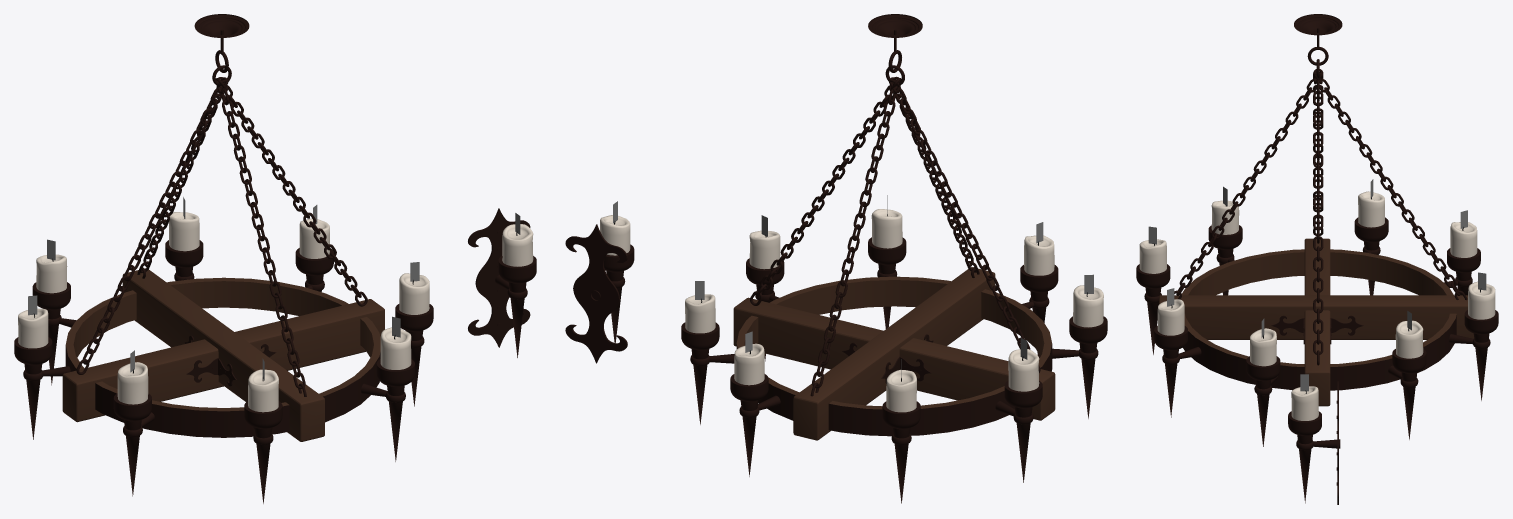
Rendered from Chandelier.FBX.
3 views of the same model, side by side, from view 1: azimuth 30°, elevation 25°; view 2: azimuth 150°, elevation 25°; view 3: azimuth 270°, elevation 25° (orthographic). The views are drawn at different scales.
Parts seen in each view (by area): view 1: Line1789528085, Object006, Object007, Group2098637409, Line1789528086, Cylinder007, Cylinder019, Cylinder012, Cylinder014, Cylinder015, Cylinder010, Cylinder016 (+2 smaller); view 2: Line1789528085, Object006, Object007, Group2098637409, Cylinder013, Cylinder016, Cylinder014, Cylinder012, Cylinder010, Cylinder007, Cylinder011, Cylinder015 (+2 smaller); view 3: Line1789528085, Object007, Object006, Line1789528086, Cylinder011, Cylinder015, Cylinder010, Cylinder013, Cylinder014, Cylinder016, Cylinder019, Cylinder007 (+1 smaller).
Part boxes in pixels (<box>): Line1789528085: <box>14,14,433,503</box>; Object006: <box>62,299,384,422</box>; Object007: <box>122,268,324,441</box>; Group2098637409: <box>468,208,530,347</box>; Line1789528086: <box>495,256,536,357</box>; Cylinder007: <box>248,369,278,412</box>; Cylinder019: <box>502,224,533,266</box>; Cylinder012: <box>117,362,148,404</box>; Cylinder014: <box>380,327,411,369</box>; Cylinder015: <box>399,273,429,314</box>; Cylinder010: <box>169,212,199,251</box>; Cylinder016: <box>18,308,48,348</box>; Line1789528085: <box>681,14,1107,503</box>; Object006: <box>733,297,1055,420</box>; Object007: <box>793,267,995,440</box>; Group2098637409: <box>565,224,627,363</box>; Cylinder013: <box>886,369,916,412</box>; Cylinder016: <box>1008,349,1039,391</box>; Cylinder014: <box>871,209,902,248</box>; Cylinder012: <box>1073,285,1103,327</box>; Cylinder010: <box>734,343,764,385</box>; Cylinder007: <box>1024,235,1054,275</box>; Cylinder011: <box>685,294,715,333</box>; Cylinder015: <box>749,230,780,269</box>; Line1789528085: <box>1136,14,1498,446</box>; Object007: <box>1159,295,1474,339</box>; Object006: <box>1304,238,1330,406</box>; Line1789528086: <box>1288,411,1340,503</box>; Cylinder011: <box>1395,320,1423,358</box>; Cylinder015: <box>1250,328,1276,366</box>; Cylinder010: <box>1468,281,1495,319</box>; Cylinder013: <box>1450,222,1477,257</box>; Cylinder014: <box>1157,299,1184,335</box>; Cylinder016: <box>1358,191,1384,227</box>; Cylinder019: <box>1291,386,1318,420</box>; Cylinder007: <box>1139,239,1166,273</box>.
Bounding box in the file's own units: 82.12 × 63.62 × 58.69.
